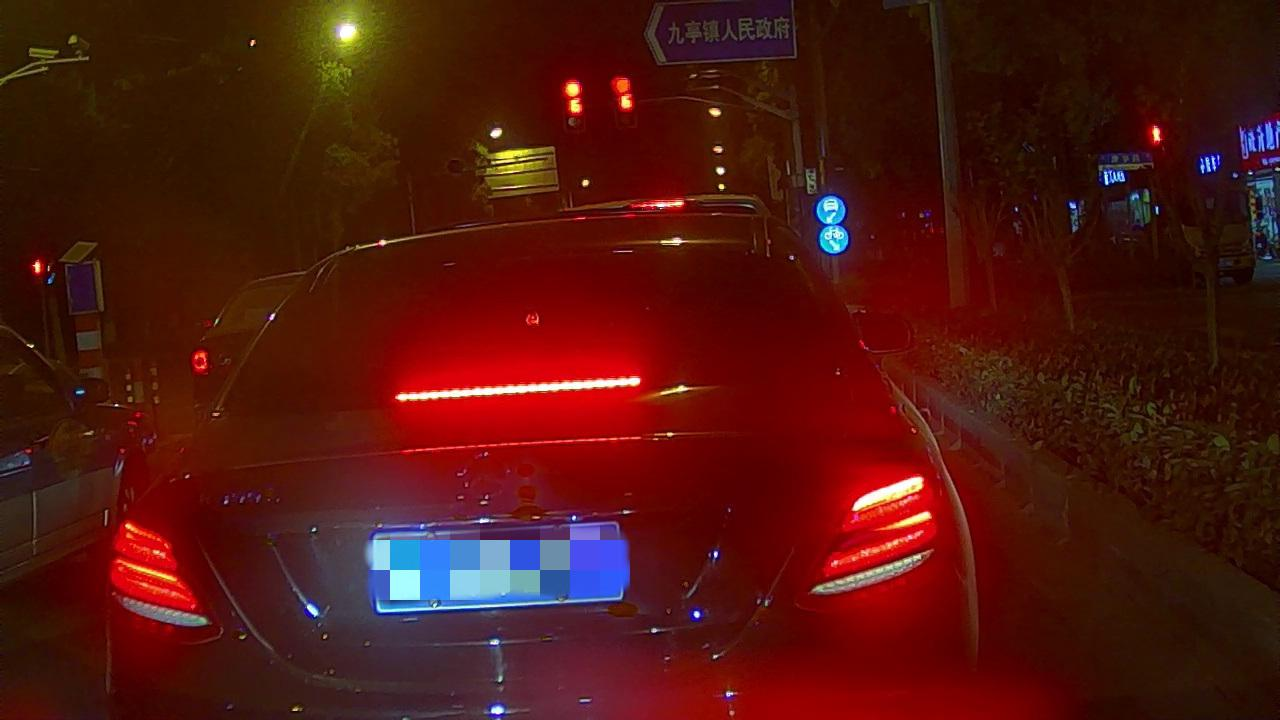traffic_light: (558, 72, 589, 120), (609, 72, 640, 118)
